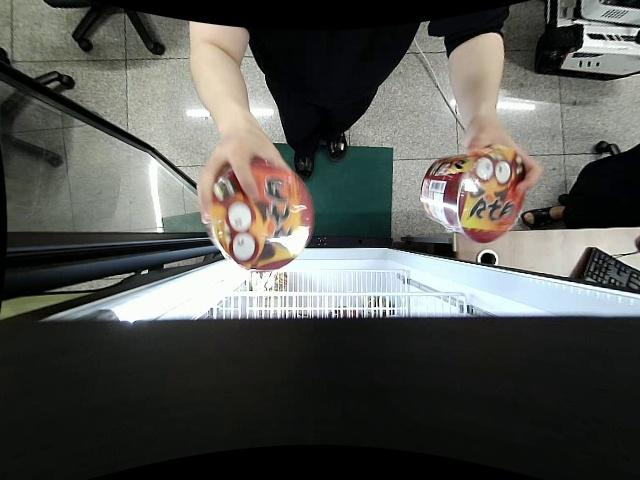00_hand: (197, 137, 293, 215), (461, 119, 542, 192)
05_nuguri_L: (207, 156, 313, 273), (419, 143, 527, 243)
